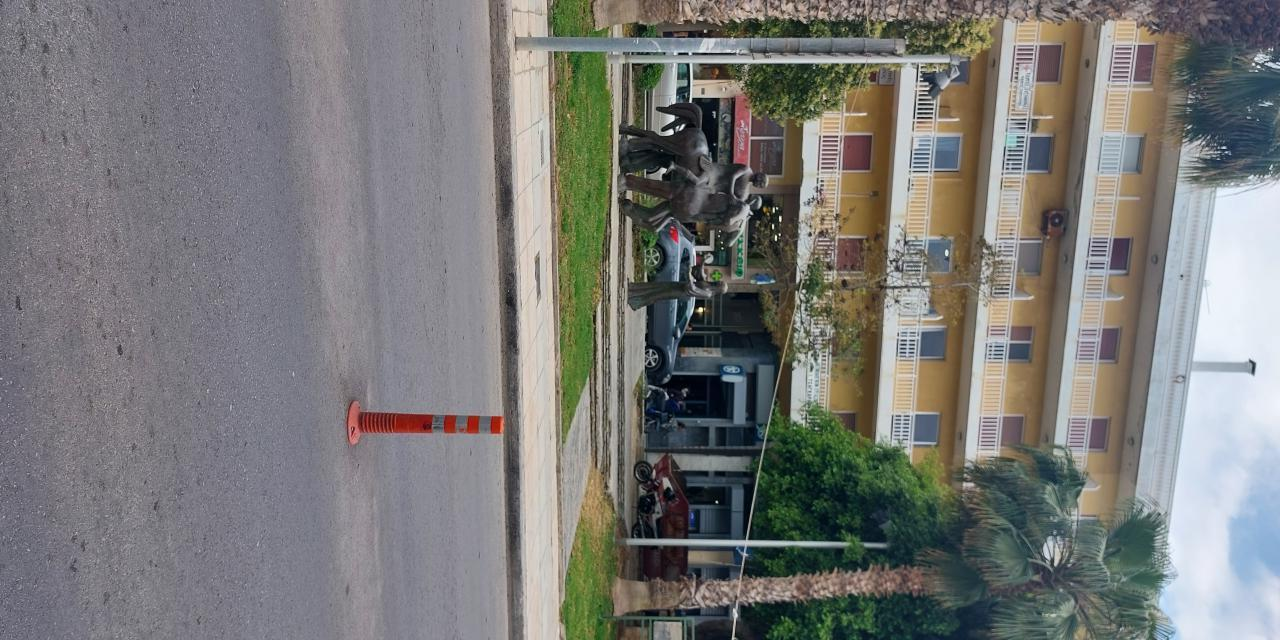Aretousa: (1000, 1, 1190, 74)
